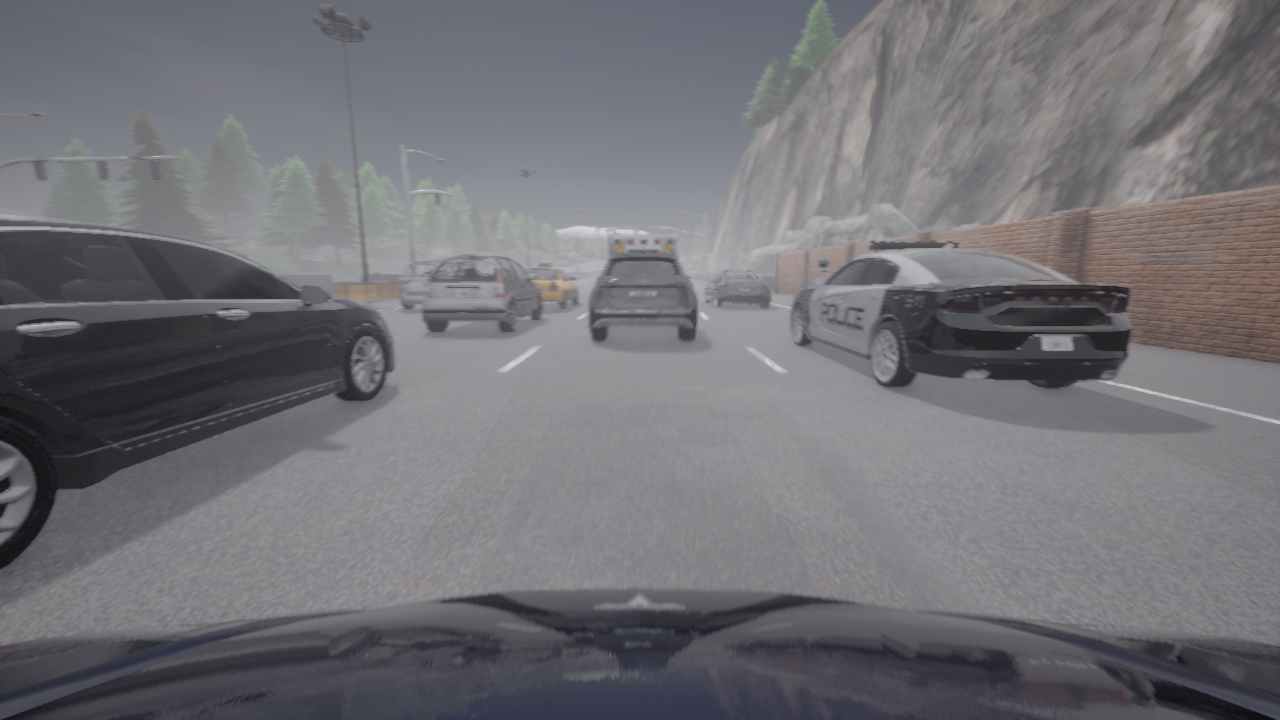cyclist: (0, 588, 1279, 719), (792, 240, 1132, 388), (589, 249, 696, 340), (422, 255, 543, 332), (704, 269, 771, 307), (525, 263, 578, 309), (399, 260, 443, 309), (609, 235, 678, 260)
